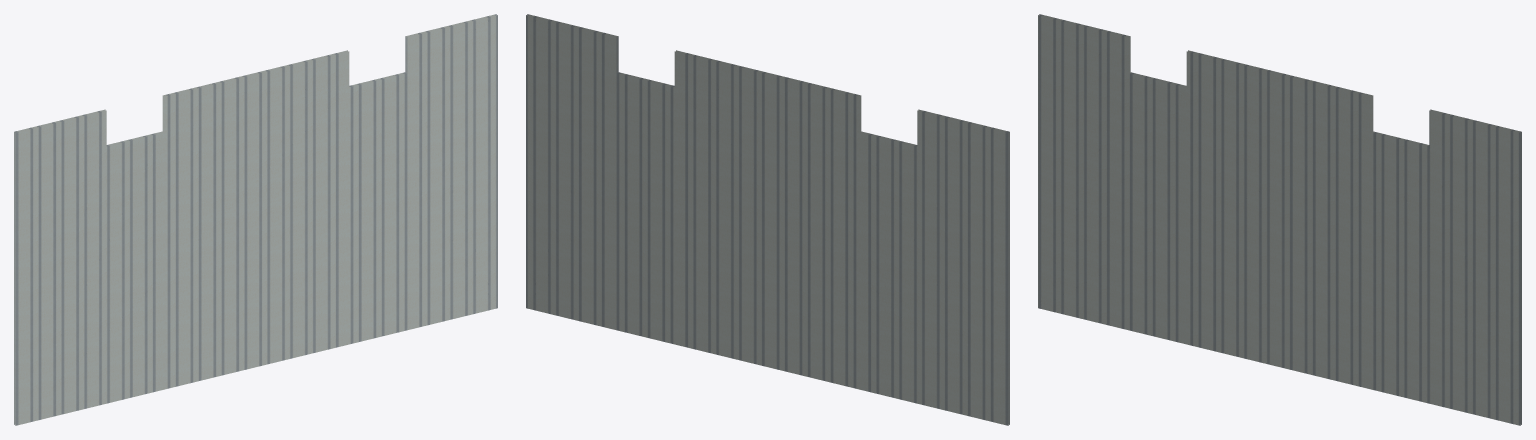
File: floor_5.obj
3 renders of one model, left to right at view 1: azimuth 30°, elevation 25°; view 2: azimuth 150°, elevation 25°; view 3: azimuth 330°, elevation 25°, orthographic.
Visible parts, largest first — view 1: floor_5; view 2: floor_5; view 3: floor_5.
Part boxes in pixels (x1=…): floor_5: x1=14, y1=14, x2=497, y2=425; floor_5: x1=526, y1=14, x2=1009, y2=425; floor_5: x1=1038, y1=14, x2=1521, y2=425.
Size of the model in its own units: 21.1 by 12.25 by 0.1.
Materials: 1 (1 with a texture image).
